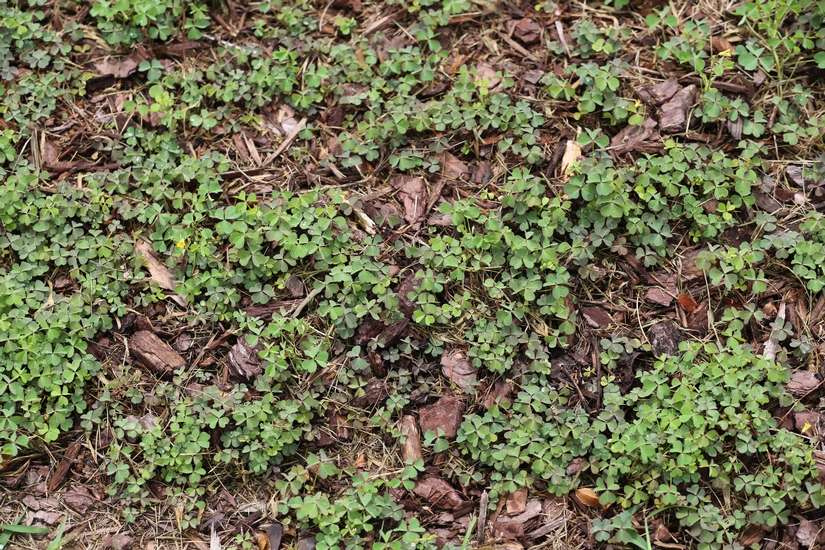oxalis: (111, 173, 422, 550), (457, 349, 820, 550), (354, 163, 611, 359), (133, 42, 531, 141), (16, 155, 114, 454), (560, 43, 748, 138)
